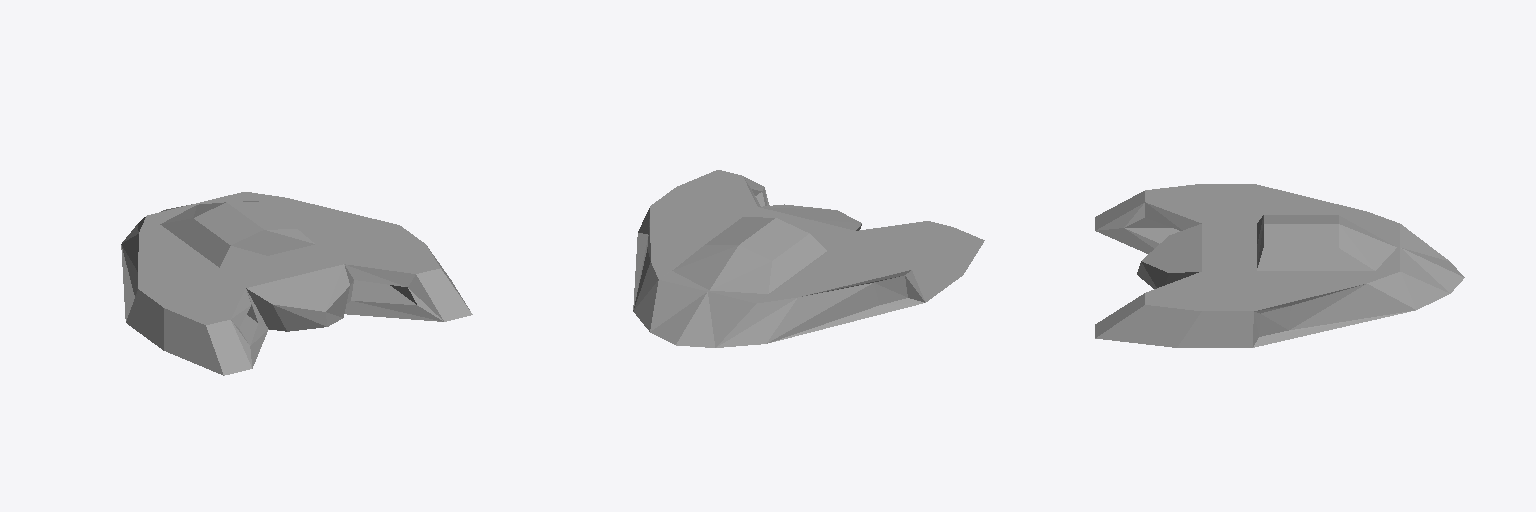
Rendered from angular fighter.obj.
3 renders of one model, left to right at view 1: azimuth 30°, elevation 25°; view 2: azimuth 150°, elevation 25°; view 3: azimuth 270°, elevation 25°, orthographic.
Parts seen in each view (by area): view 1: Angular_Fighter_Cube; view 2: Angular_Fighter_Cube; view 3: Angular_Fighter_Cube.
Part boxes in pixels (x1,y1,x2,y2): Angular_Fighter_Cube: (121,192,472,375); Angular_Fighter_Cube: (633,170,984,347); Angular_Fighter_Cube: (1095,184,1464,347).
Size of the model in its own units: 8.8 by 1.89 by 9.79.